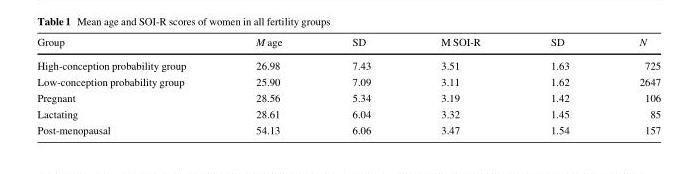table: (36, 37, 660, 135)
table column: (36, 37, 220, 135), (405, 37, 514, 135), (220, 37, 316, 135), (316, 37, 405, 135), (514, 37, 603, 135), (603, 37, 660, 135)
table column header: (36, 37, 660, 54)
table row: (36, 54, 660, 74), (36, 37, 660, 54), (36, 74, 660, 90), (36, 90, 660, 106), (36, 106, 660, 122), (36, 122, 660, 135)
